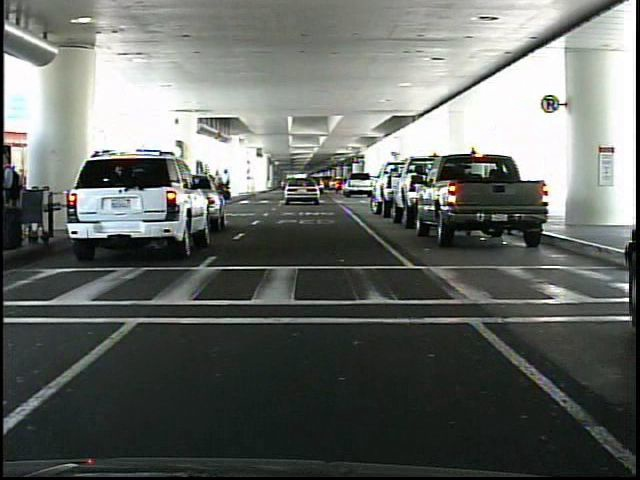person: (5, 151, 26, 257)
